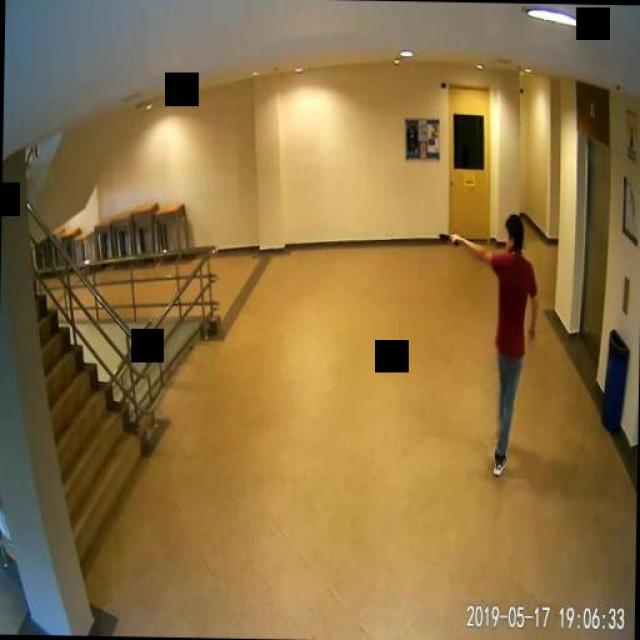gun: (438, 230, 458, 244)
